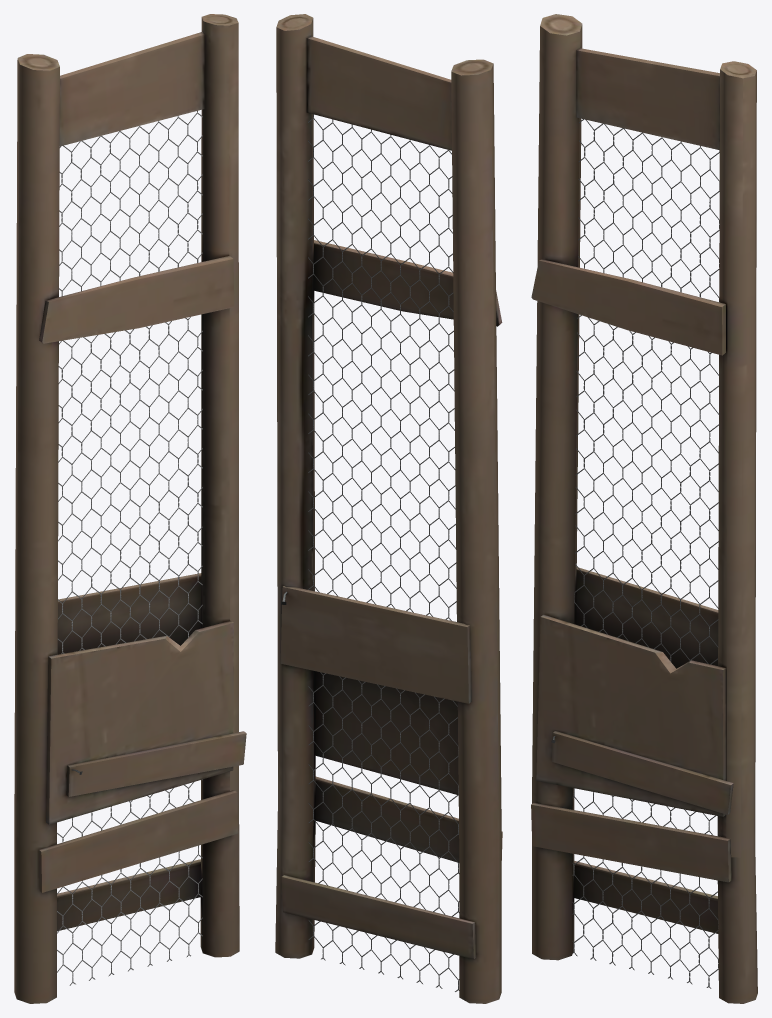
3 views of the same model, side by side, from view 1: azimuth 30°, elevation 25°; view 2: azimuth 150°, elevation 25°; view 3: azimuth 330°, elevation 25° (orthographic).
Visible parts, largest first — view 1: body0_model0_lod0_mesh1, body0_model0_lod0_mesh0; view 2: body0_model0_lod0_mesh1, body0_model0_lod0_mesh0; view 3: body0_model0_lod0_mesh1, body0_model0_lod0_mesh0.
Part boxes in pixels (x1,y1,x2,y2): body0_model0_lod0_mesh1: [14, 14, 246, 1003]; body0_model0_lod0_mesh0: [57, 111, 202, 985]; body0_model0_lod0_mesh1: [275, 14, 502, 1003]; body0_model0_lod0_mesh0: [308, 114, 459, 991]; body0_model0_lod0_mesh1: [531, 14, 757, 1003]; body0_model0_lod0_mesh0: [572, 119, 719, 988].
Size of the model in its own units: 66.65 by 268 by 21.57.
2 materials, 2 textured.
